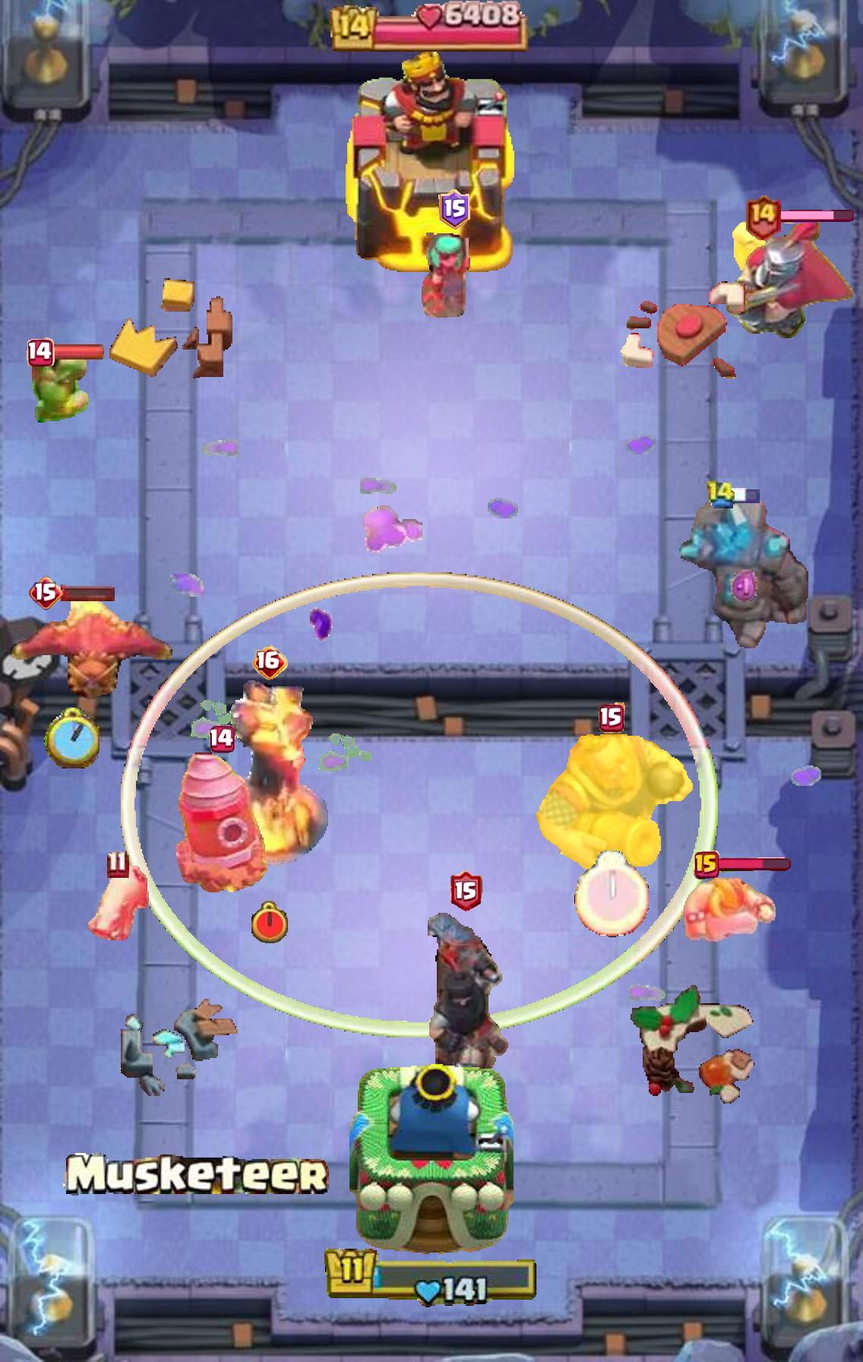elixir: (731, 568, 761, 605)
skeleton: (732, 222, 774, 271)
